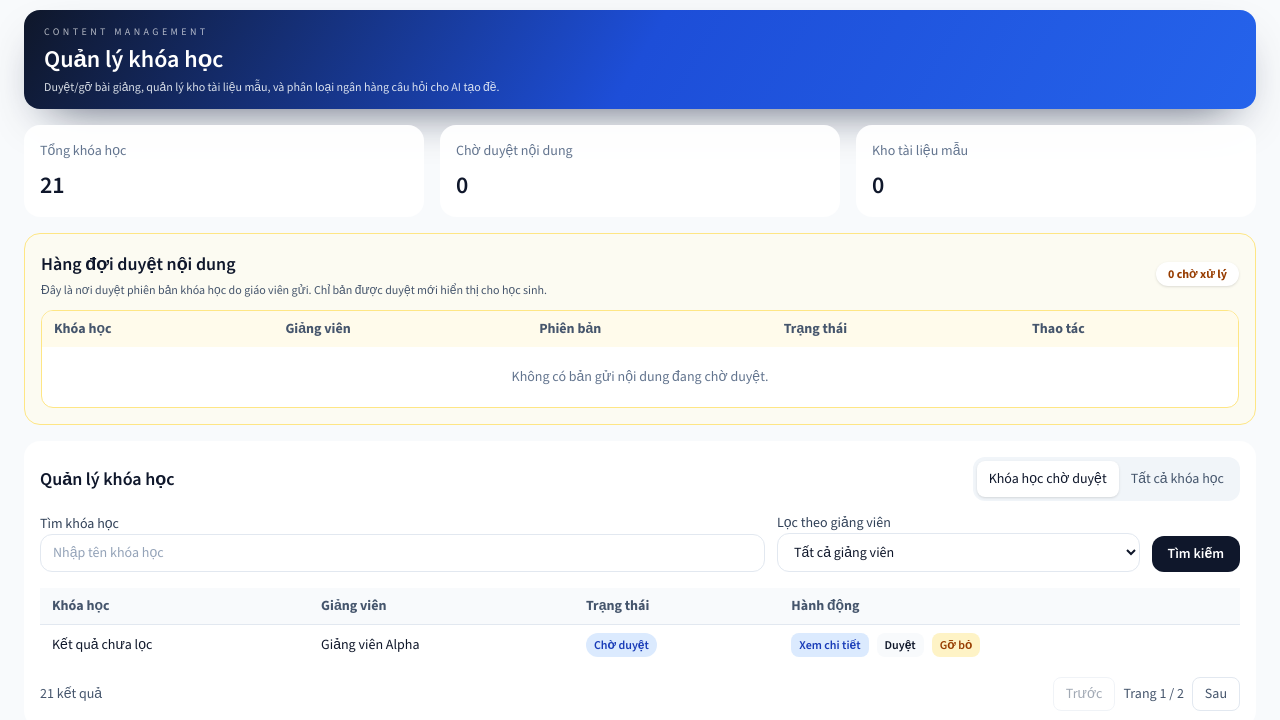
AdminContentManagementPage course filters › refreshes with the newest instructor after a delayed moderation finishes
expect the text "Kết quả chưa lọc" is shown: met, box top-left (40, 624), bottom-right (309, 665)
Click the button "Duyệt" at (900, 645), box top-left (876, 633), bottom-right (924, 657)
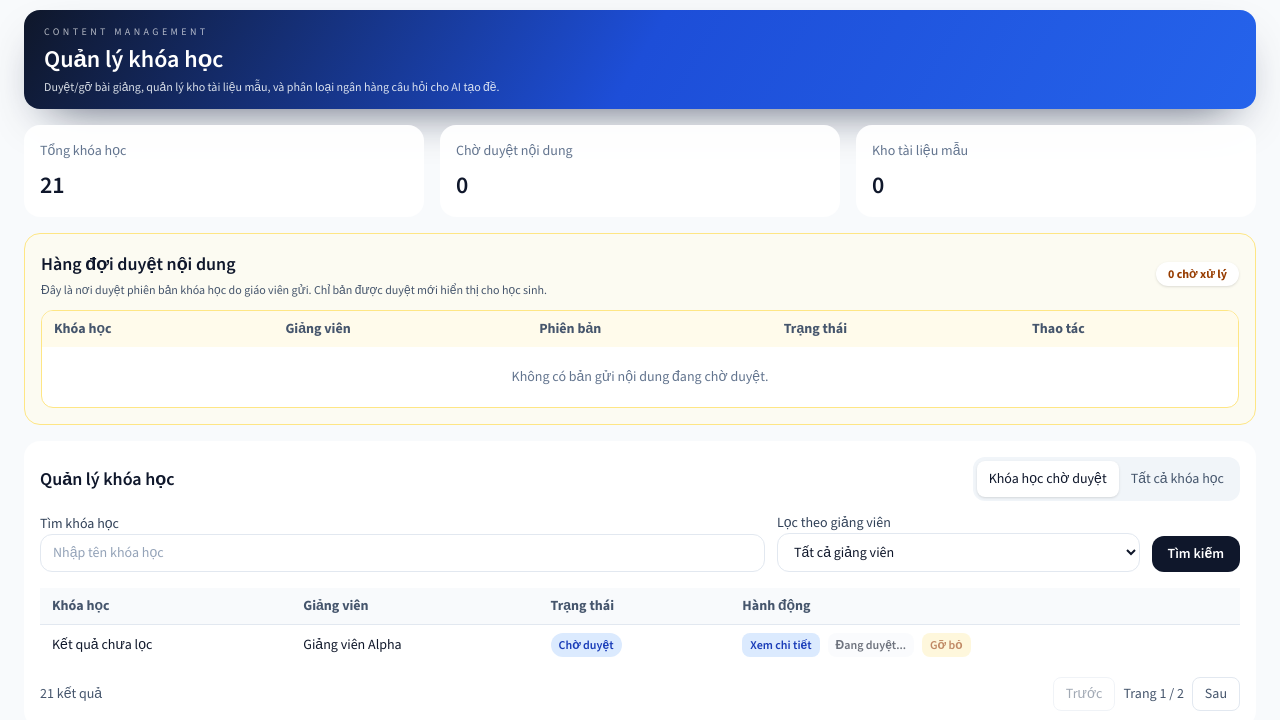
Select "Giảng viên Beta" in the dropdown labelled "Lọc theo giảng viên" at (958, 552), box top-left (777, 533), bottom-right (1140, 572)
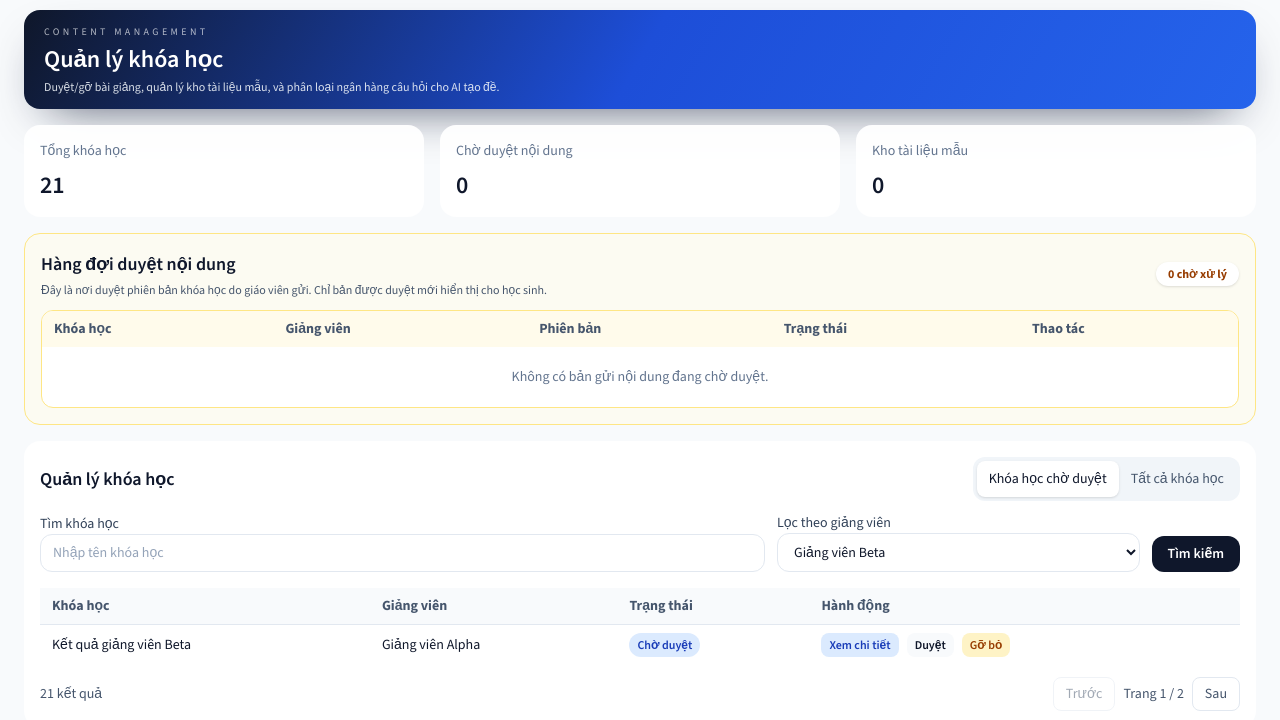
expect the text "Kết quả giảng viên Beta" is shown: met, box top-left (40, 624), bottom-right (370, 665)
